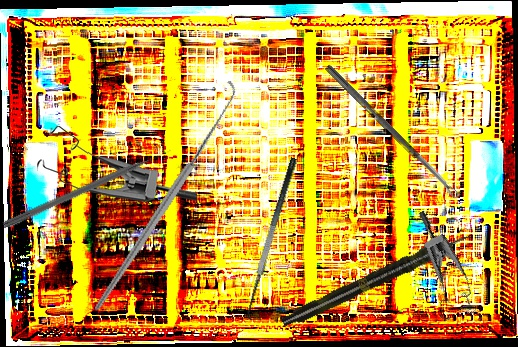Handpiece: (279, 228, 473, 331)
Hook Surgical: (28, 78, 299, 313)
Pusher: (1, 147, 174, 231)
Spatula Surgical: (237, 156, 312, 323)
Speculum: (381, 209, 494, 331), (36, 123, 197, 205)
Surgical Spoon: (324, 64, 460, 200)
